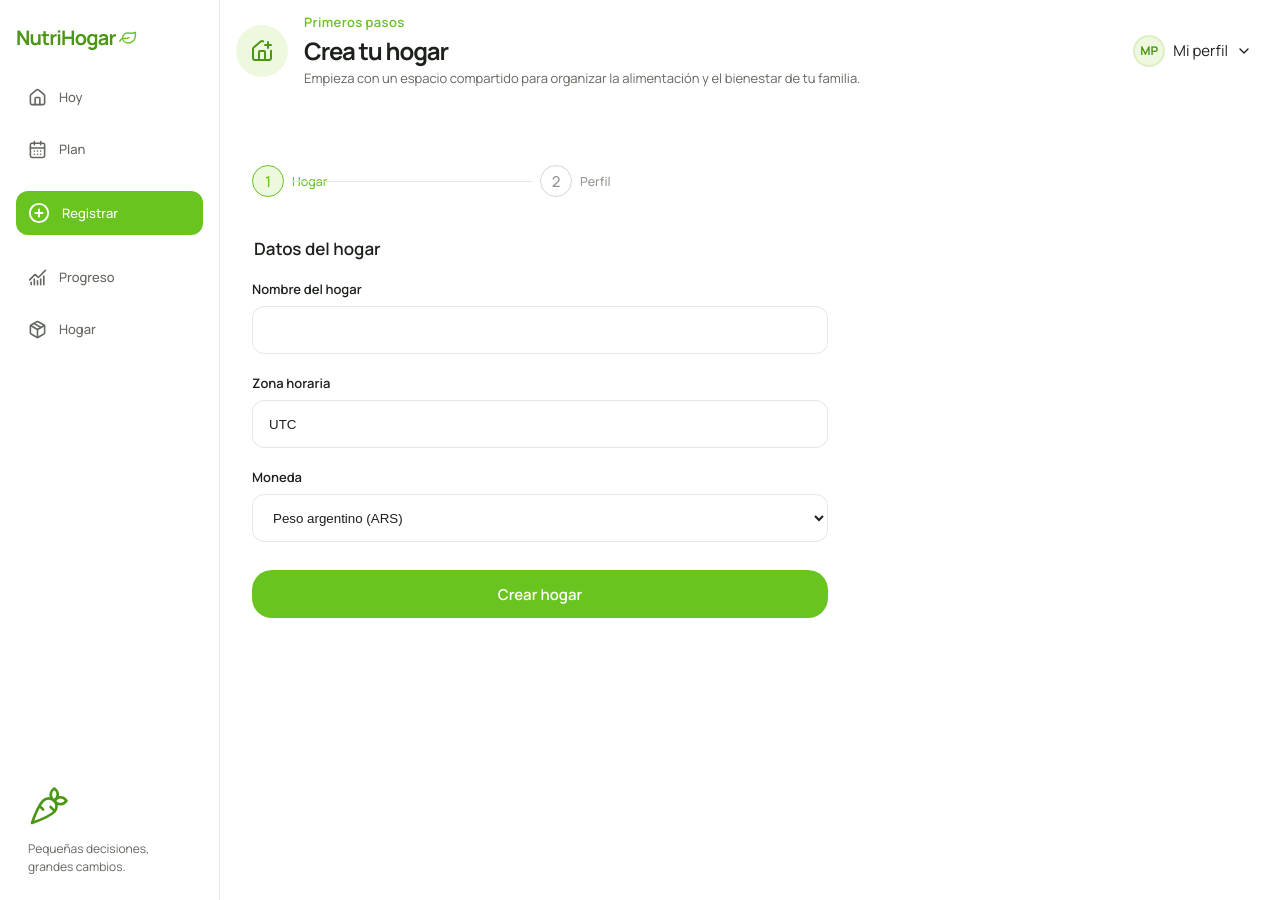
Test case: OnboardingPage › shows the API error when household creation fails
The width and height of the screenshot is (1280, 900).
In the field labelled "Nombre del hogar": (540, 330) [252, 306, 828, 354], type "Hogar Sojo"
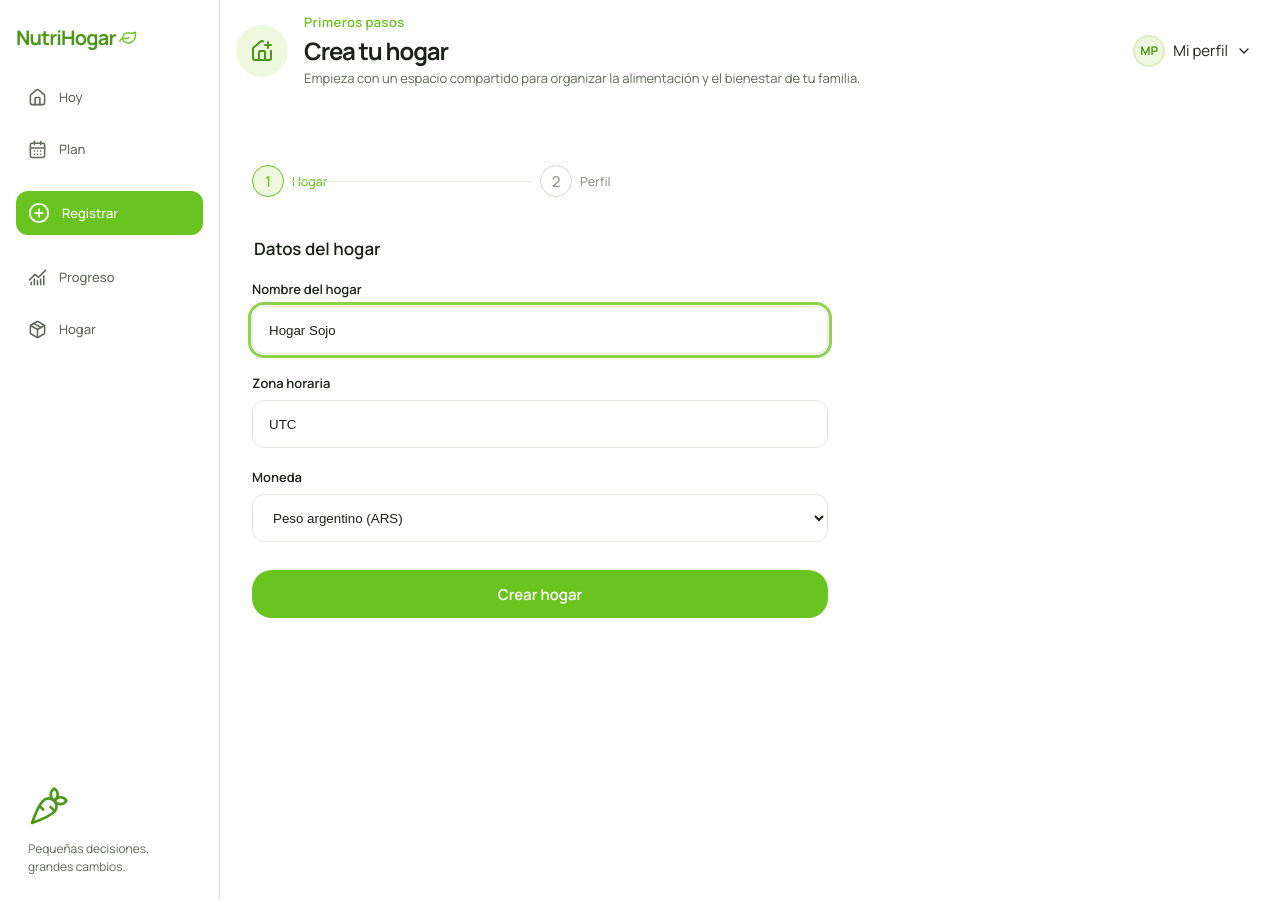
Click the button "Crear hogar": (540, 594) [252, 570, 828, 618]
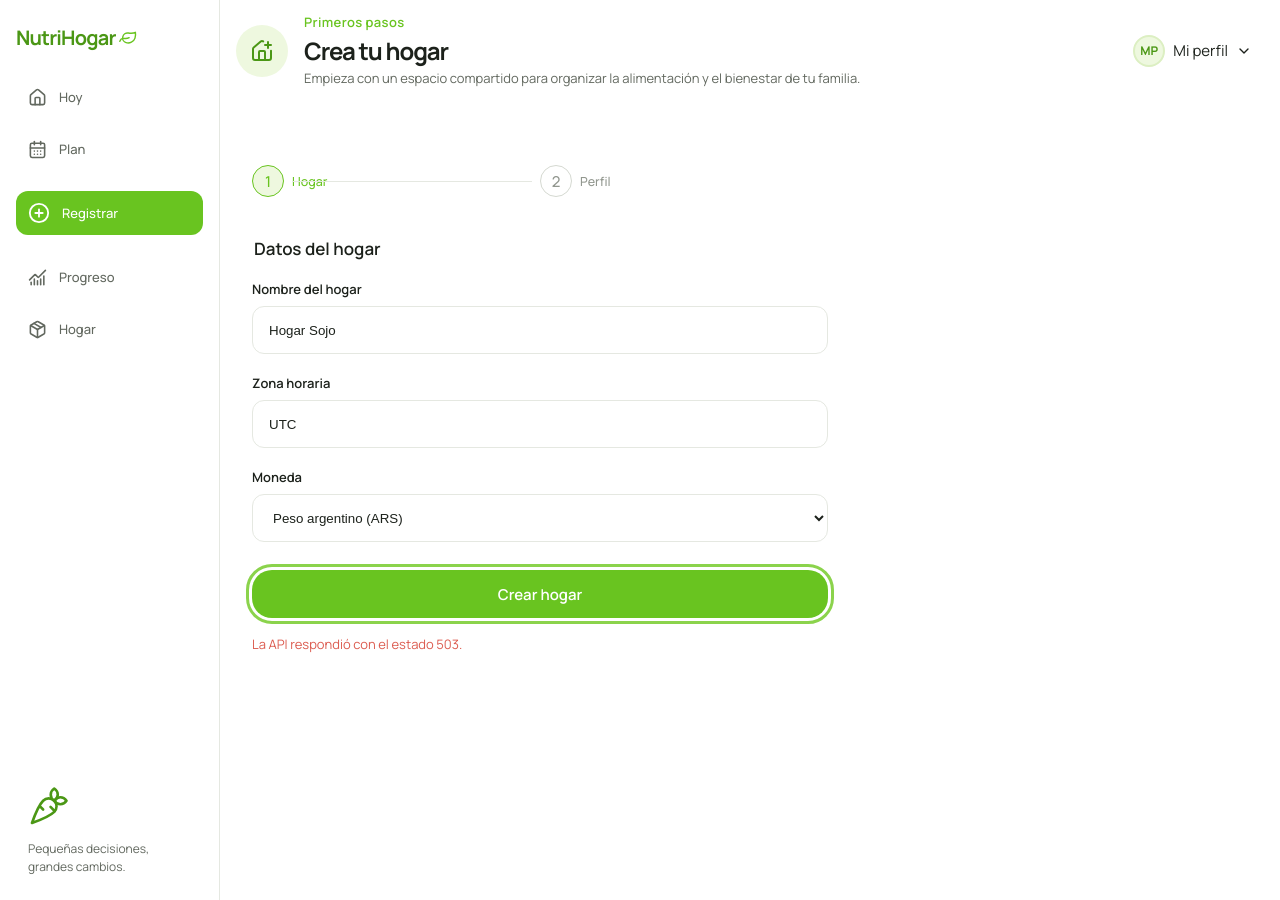
Result: the text "La API respondió con el estado 503." is shown at [252, 635, 462, 653]
